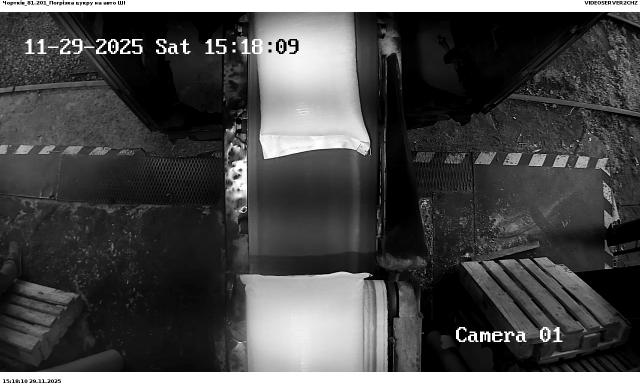bag: (252, 12, 372, 159)
